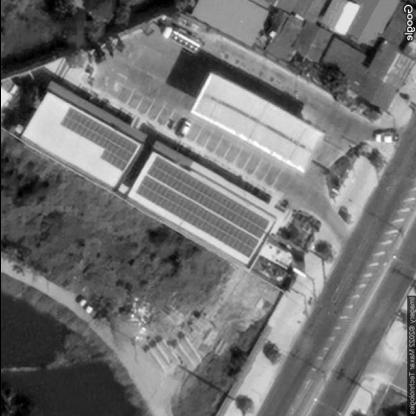solar-pv-panel: (136, 155, 270, 259), (61, 107, 137, 173)
